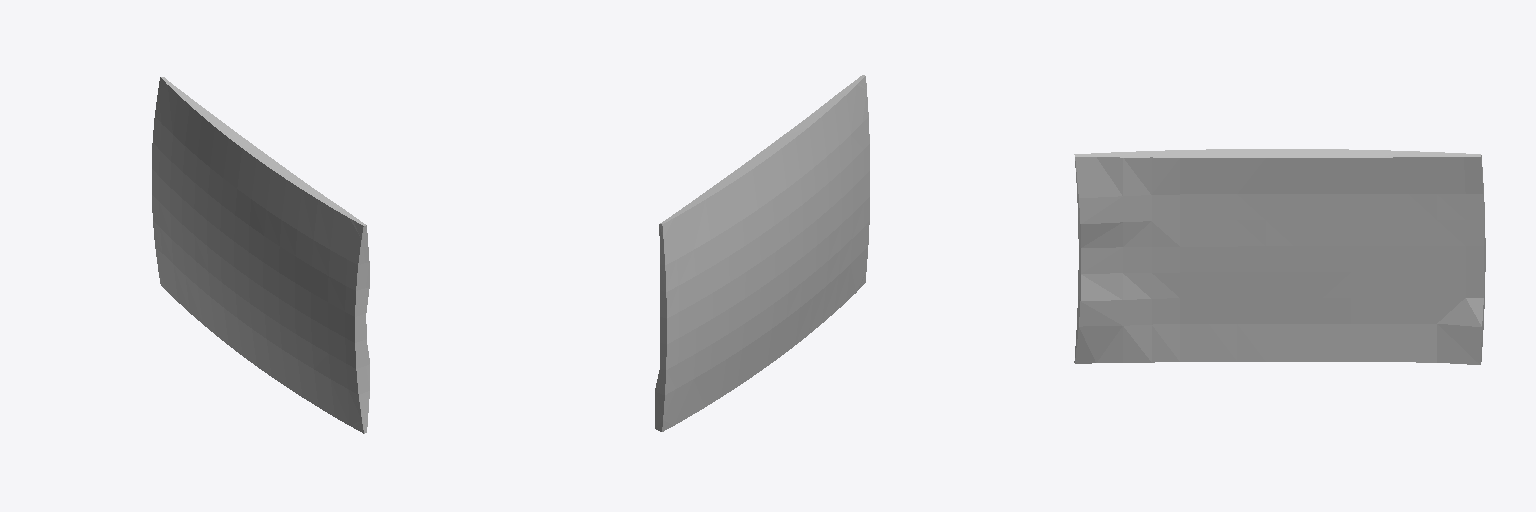
File: tela.obj
3 views of the same model, side by side, from view 1: azimuth 30°, elevation 25°; view 2: azimuth 150°, elevation 25°; view 3: azimuth 270°, elevation 25° (orthographic).
Visible parts, largest first — view 1: SurfPatch.001_SurfPatch; view 2: SurfPatch.001_SurfPatch; view 3: SurfPatch.001_SurfPatch.
Part boxes in pixels (x1,y1,x2,y2): SurfPatch.001_SurfPatch: (152, 77, 369, 433); SurfPatch.001_SurfPatch: (655, 75, 869, 431); SurfPatch.001_SurfPatch: (1074, 149, 1485, 364).
Size of the model in its own units: 0.1227 by 0.8328 by 1.49.